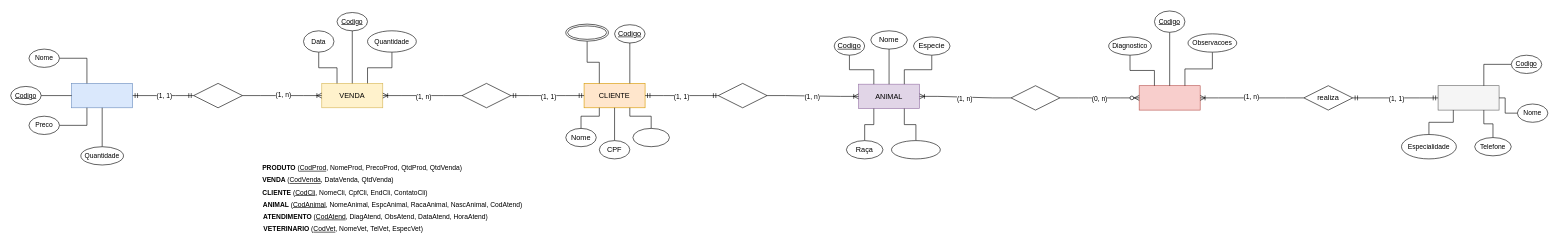
This 1559x248 diagram has some shape labels left out. Each missing label, with the box of its shape:
associa: (461, 83, 511, 108)
ATENDIMENTO: (1139, 85, 1200, 110)
Contato: (565, 23, 608, 41)
Endereco: (632, 128, 669, 147)
Nascimento: (891, 140, 940, 159)
pode: (193, 83, 242, 108)
possui: (718, 83, 767, 108)
PRODUTO: (71, 83, 133, 108)
registra: (1010, 85, 1060, 110)
VETERINÁRIOS: (1437, 85, 1499, 110)
